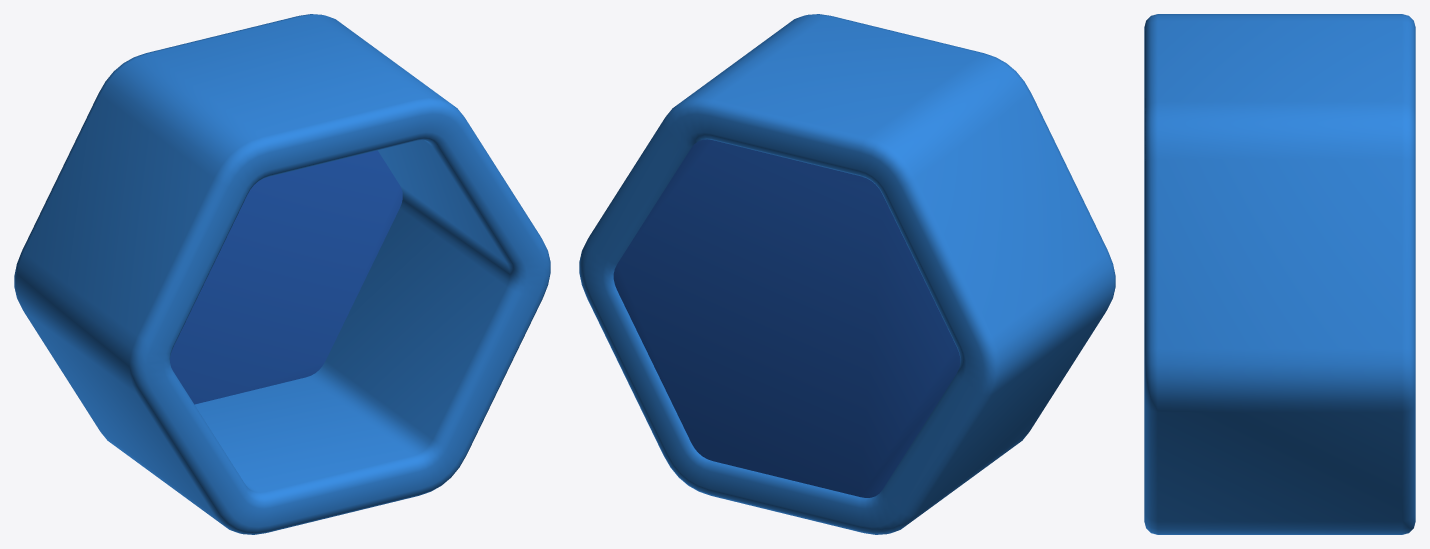
Rendered from nicho_hexagonal_azul.glb.
3 renders of one model, left to right at view 1: azimuth 30°, elevation 25°; view 2: azimuth 150°, elevation 25°; view 3: azimuth 270°, elevation 25°, orthographic. The views are drawn at different scales.
Parts seen in each view (by area): view 1: nicho_hexagonal_azul; view 2: nicho_hexagonal_azul; view 3: nicho_hexagonal_azul.
Part boxes in pixels (bbox=[...]): nicho_hexagonal_azul: bbox=[14, 14, 550, 534]; nicho_hexagonal_azul: bbox=[579, 14, 1115, 534]; nicho_hexagonal_azul: bbox=[1144, 14, 1415, 534].
Size of the model in its own units: 0.3844 by 0.3464 by 0.2.
Materials: 1 (1 with a texture image).
